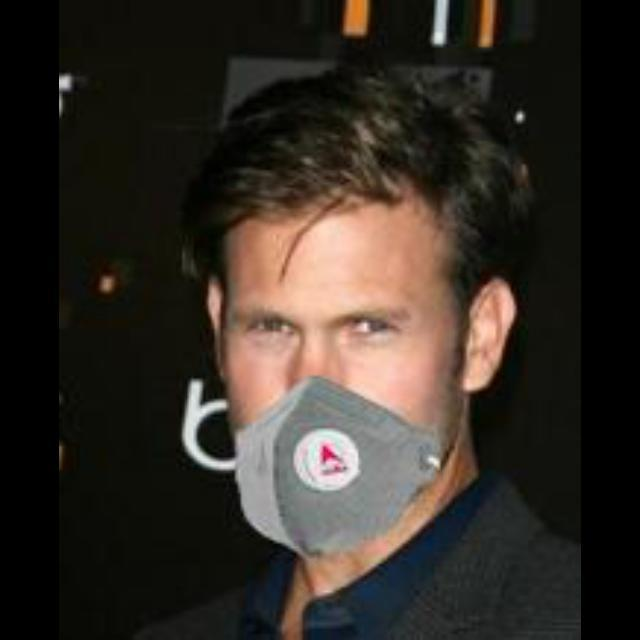suspicion: (142, 123, 554, 551)
